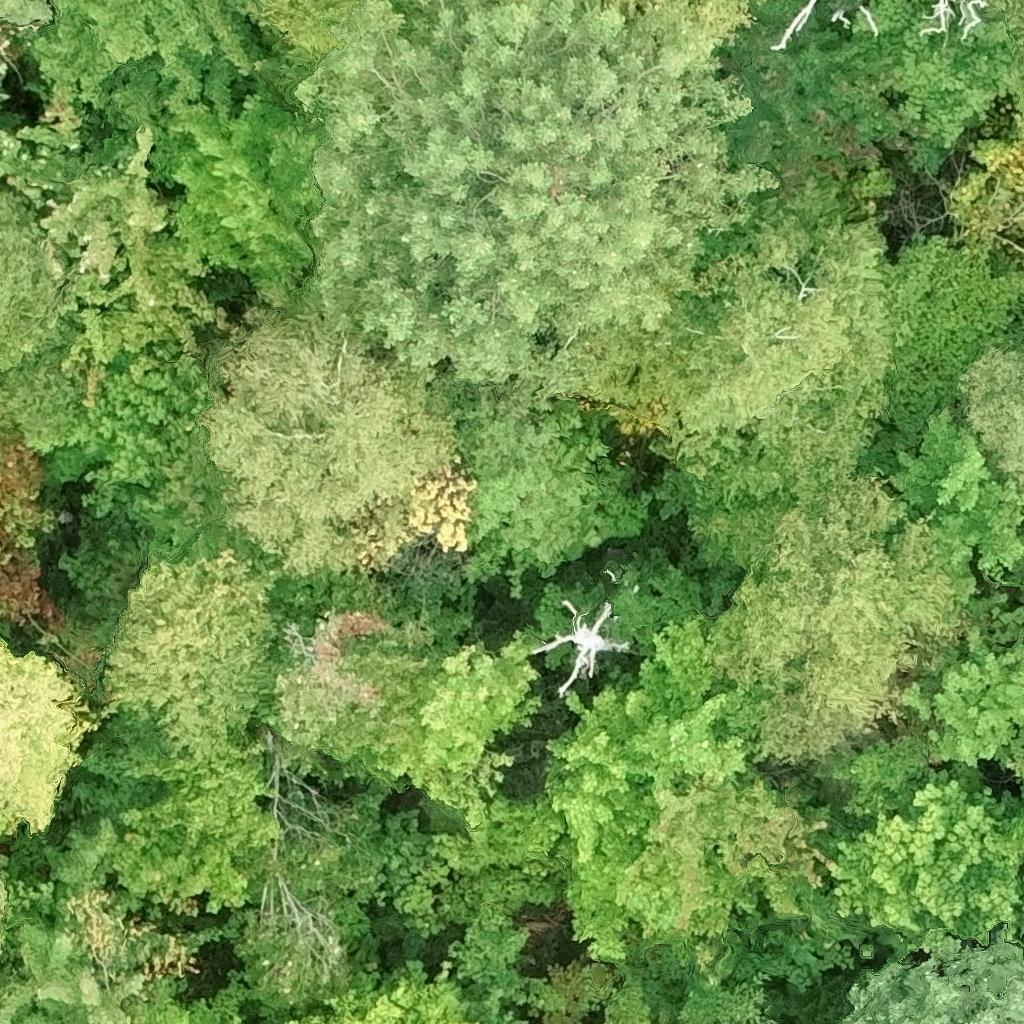crown: (295, 0, 780, 421), (560, 168, 909, 490), (709, 472, 1016, 768), (535, 554, 751, 961), (195, 288, 457, 571), (0, 120, 217, 411), (611, 764, 874, 991), (18, 0, 309, 182), (59, 355, 220, 647), (0, 816, 221, 1023), (817, 601, 1023, 817), (75, 705, 281, 916), (224, 777, 395, 1013), (91, 548, 279, 758), (168, 58, 329, 302), (453, 400, 653, 595), (249, 607, 476, 762), (832, 777, 1023, 961), (364, 635, 542, 830), (843, 0, 1023, 171), (366, 792, 566, 934), (890, 394, 1023, 588), (0, 183, 88, 459), (446, 905, 620, 1023), (0, 644, 97, 835), (846, 919, 1023, 1023), (303, 956, 528, 1023), (604, 952, 780, 1023), (0, 428, 63, 625), (958, 337, 1023, 490), (531, 601, 625, 694), (608, 0, 755, 47), (140, 977, 251, 1023), (989, 759, 1023, 861), (770, 0, 814, 49), (998, 0, 1023, 61), (0, 0, 53, 25), (920, 0, 954, 32), (960, 0, 987, 35), (0, 868, 6, 962), (0, 58, 6, 103)
